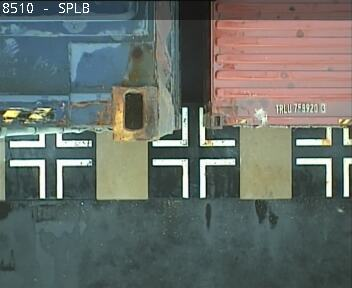groundmarker_1: (152, 157, 235, 198), (8, 158, 91, 198), (151, 107, 234, 147), (296, 125, 332, 196)
